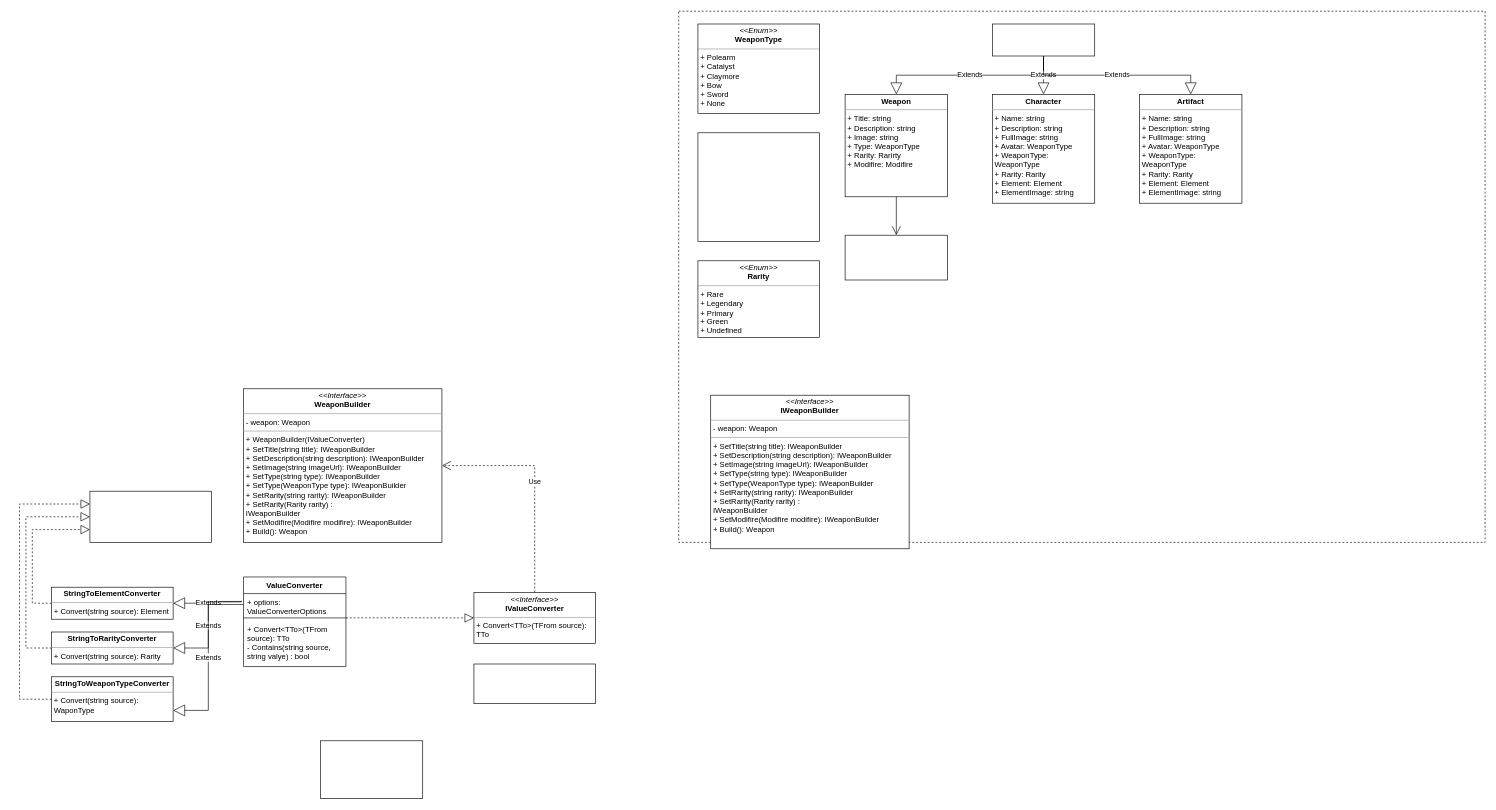
Image size: 1496x810. Some labels were removed from this diagram. Each missing label, with the centre of its shape:
"<<Enum>> Element + Pyro + Hydro + Anemo + Electro + Dendro + Cryo + Geo + None" goes at (758,187).
"<<Interface>> IConverter<TFrom, TTo> + Convert(TFrom source): TTo" goes at (150,516).
"<<Interface>> IParser<T> + LoadAsync(): Task<T>" goes at (534,683).
"Identity + Id: Guid" goes at (1043,39).
"Modifire + Title: string + Description: string" goes at (896,257).
"WeaponsParser + field: Type + method(): Type" goes at (371,769).
